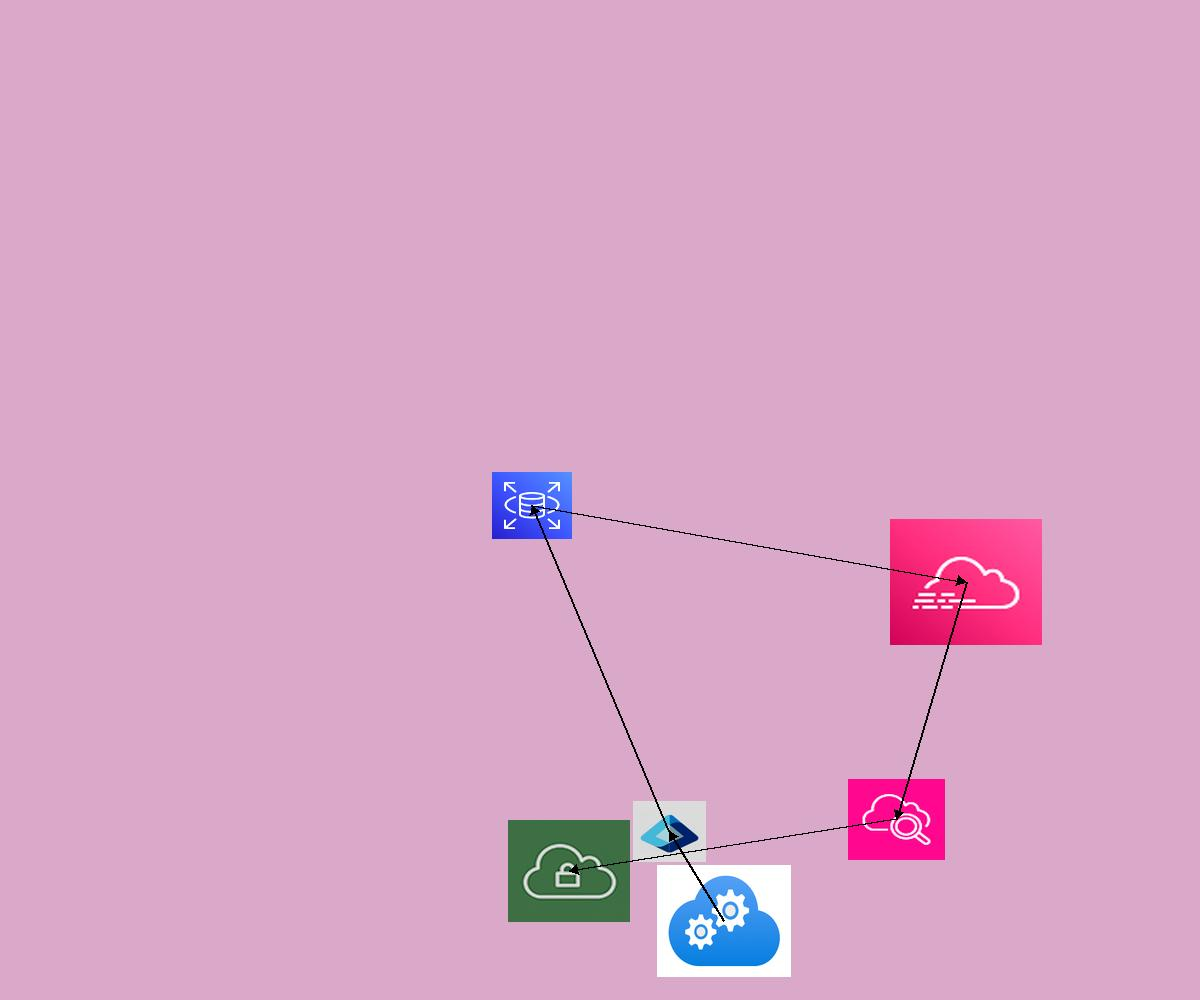AWS-CloudTrail: (890, 519, 1042, 645)
AWS-CloudWatch: (848, 779, 945, 860)
AWS-Private_vpc: (508, 820, 630, 922)
AWS-RDS: (492, 472, 572, 539)
Azure_cloud_services: (657, 865, 791, 977)
Azure_microsoft_entra: (633, 801, 706, 862)
